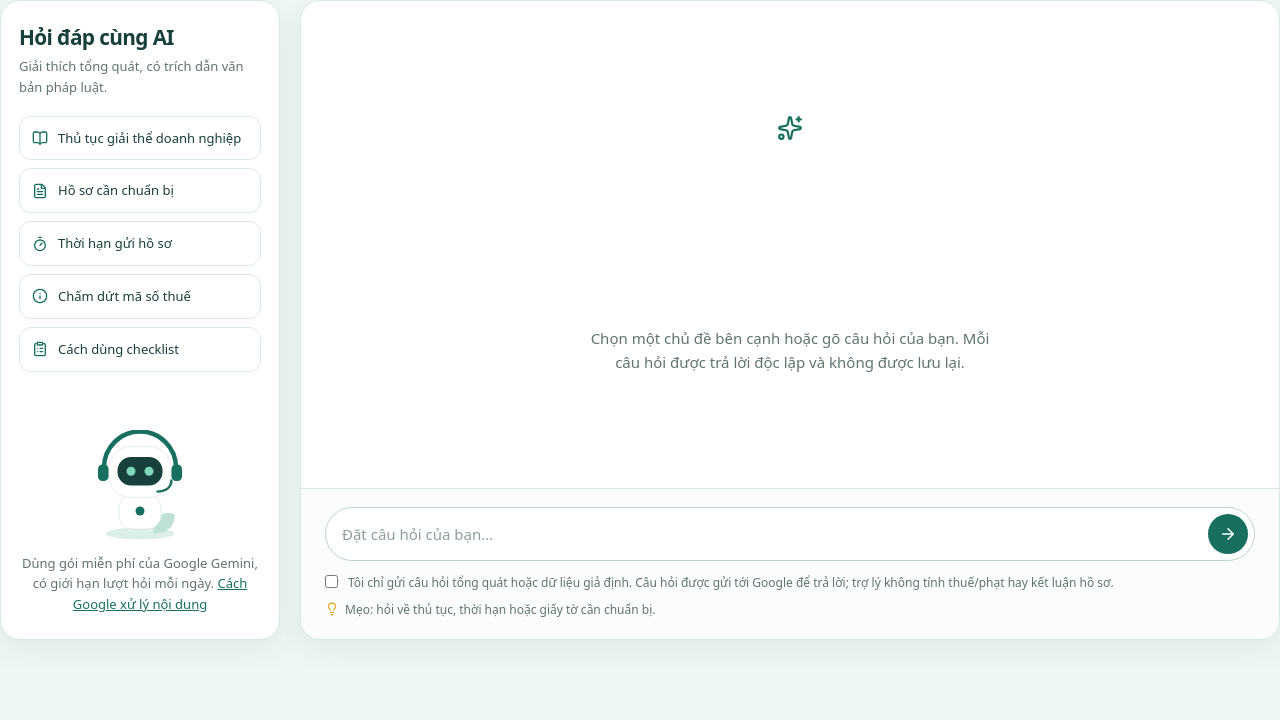
Test: Trợ lý có nguồn › không gửi câu hỏi chỉ có khoảng trắng
Click the checkbox: coordinates (332, 581) [325,575,338,588]
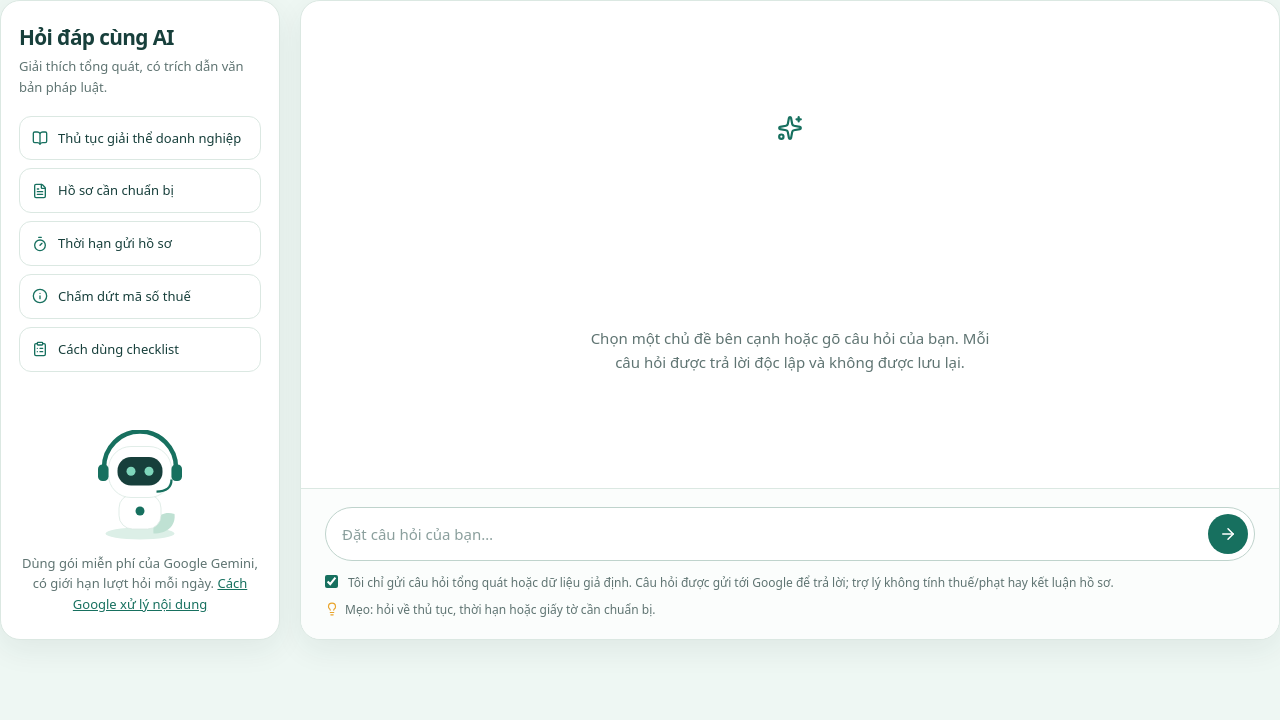
Submit the form named "Đặt câu hỏi", box [301,488,1279,639]
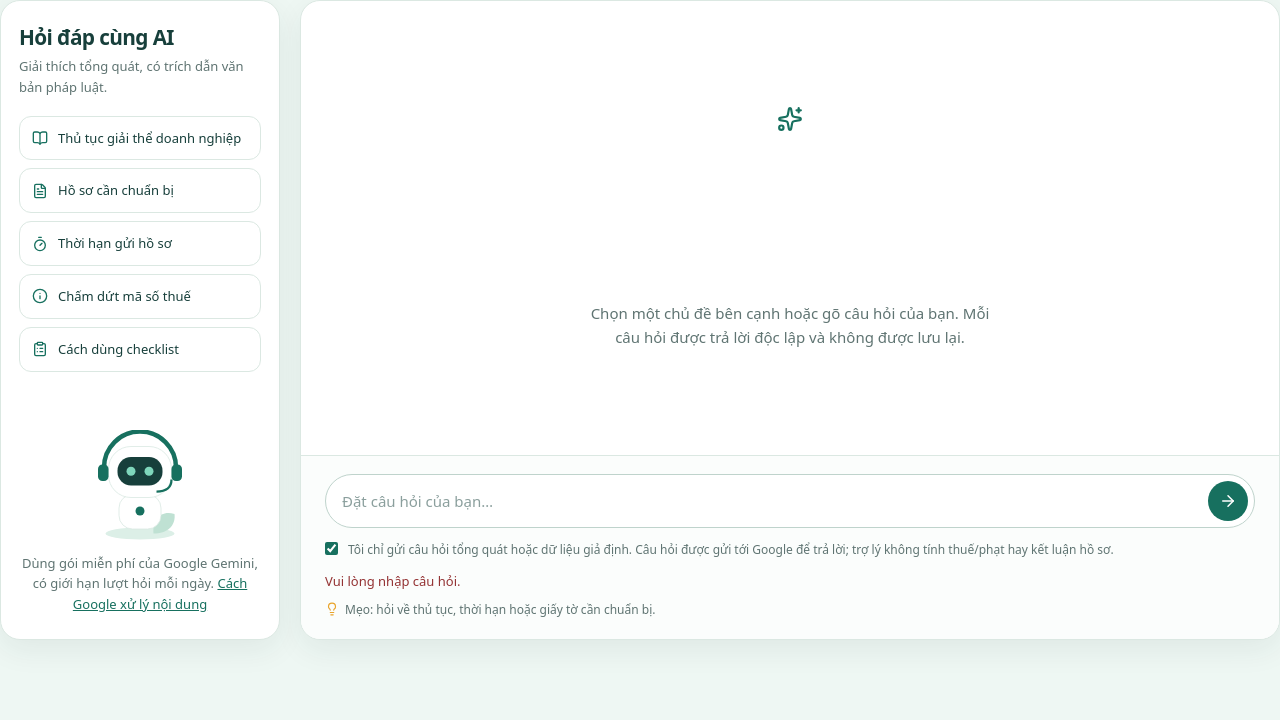
Check: the message reads "Vui lòng nhập câu hỏi.", box [325,572,460,590]
